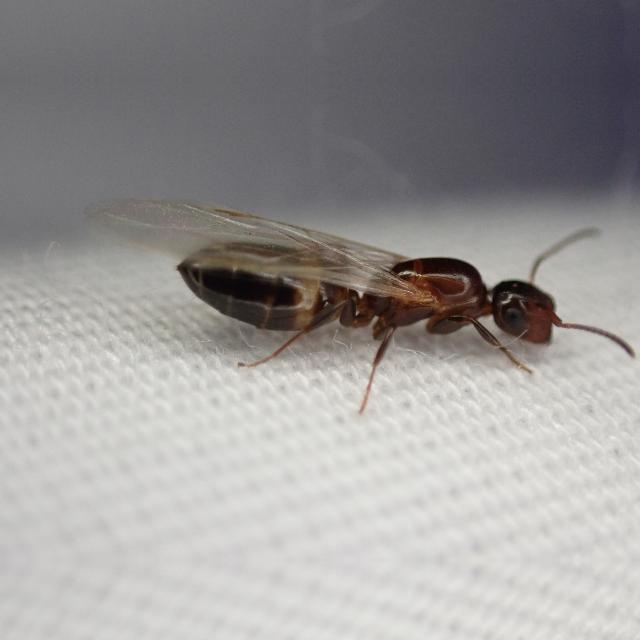Colobopsis: (143, 186, 619, 390)
